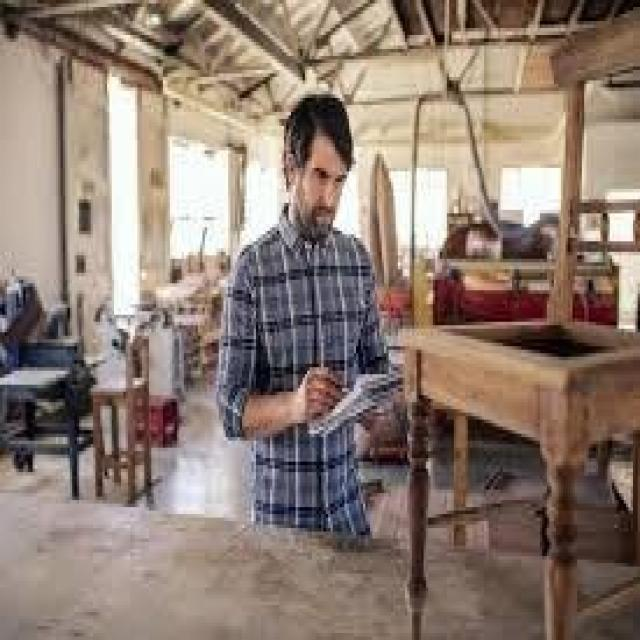person: (193, 74, 421, 552)
